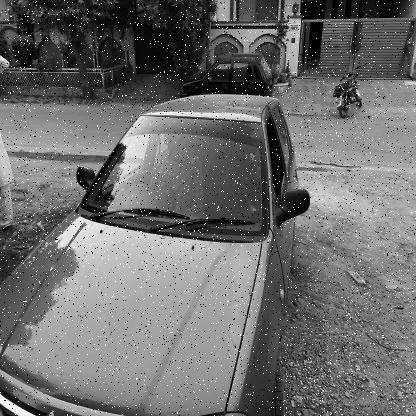no_seatbelt: (156, 130, 193, 198)
